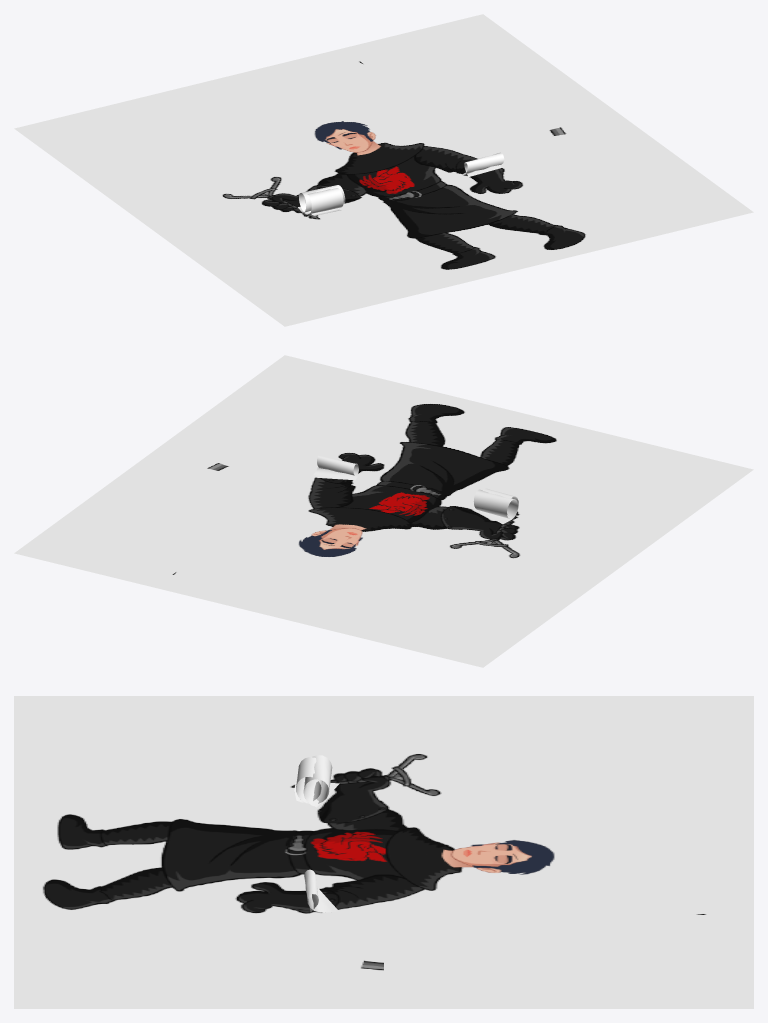
The model's file is Level 193.fbx.
The picture shows the model from 3 angles, top to bottom: view 1: azimuth 30°, elevation 25°; view 2: azimuth 150°, elevation 25°; view 3: azimuth 270°, elevation 25°; orthographic projection. The views are drawn at different scales.
Visible parts, largest first — view 1: Mesh, Blend_01, Blend_02; view 2: Mesh, Blend_01, Blend_02; view 3: Mesh, Blend_01, Blend_02.
Boxes of the visible parts, bbox=[...] form: Mesh: bbox=[14, 14, 753, 326]; Blend_01: bbox=[298, 185, 345, 215]; Blend_02: bbox=[462, 152, 504, 176]; Mesh: bbox=[14, 355, 753, 667]; Blend_01: bbox=[473, 488, 518, 524]; Blend_02: bbox=[311, 455, 358, 480]; Mesh: bbox=[14, 696, 753, 1008]; Blend_01: bbox=[294, 755, 339, 807]; Blend_02: bbox=[304, 869, 338, 912].
Bounding box in the file's own units: 2400 × 393 × 2400.
